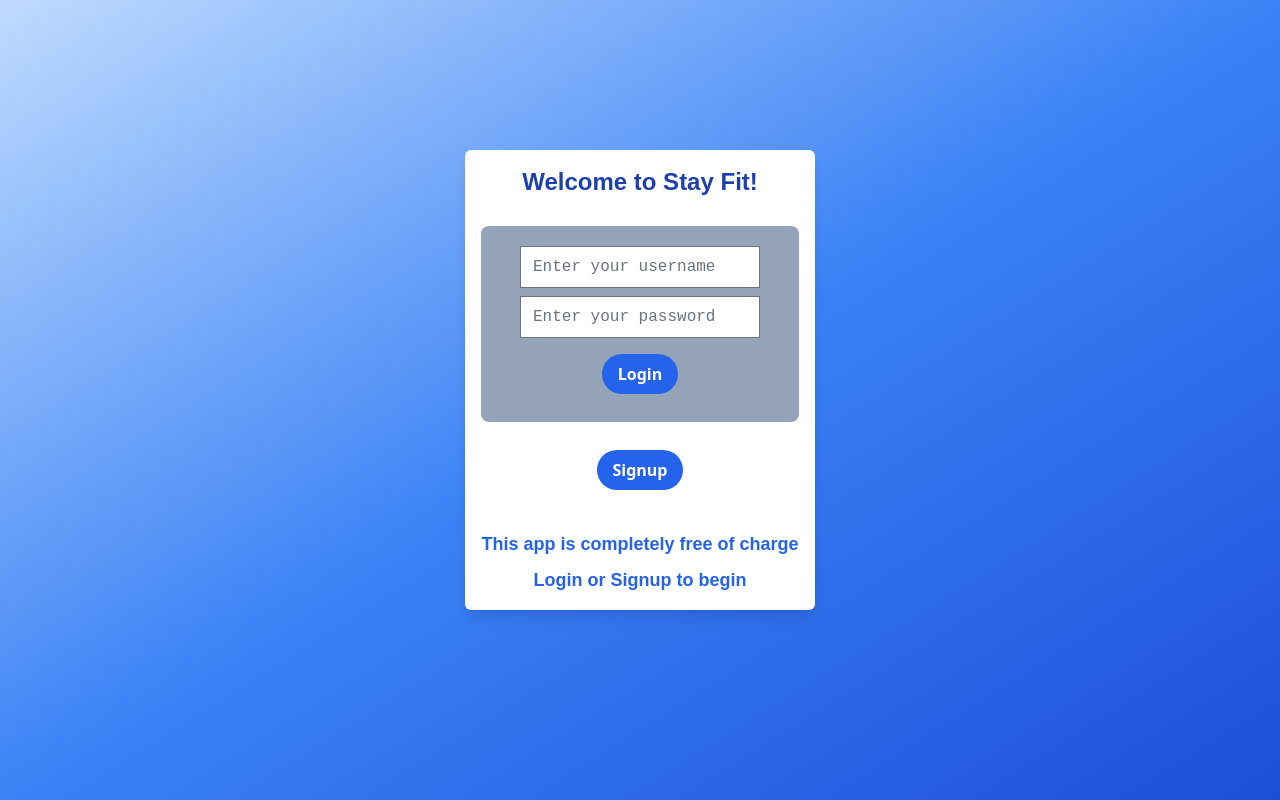
Scenario: LoginPage should show signup modal form when signup button clicked
The width and height of the screenshot is (1280, 800).
Click the button with test id "signup-button" at [640, 470], box [596,450,684,490]
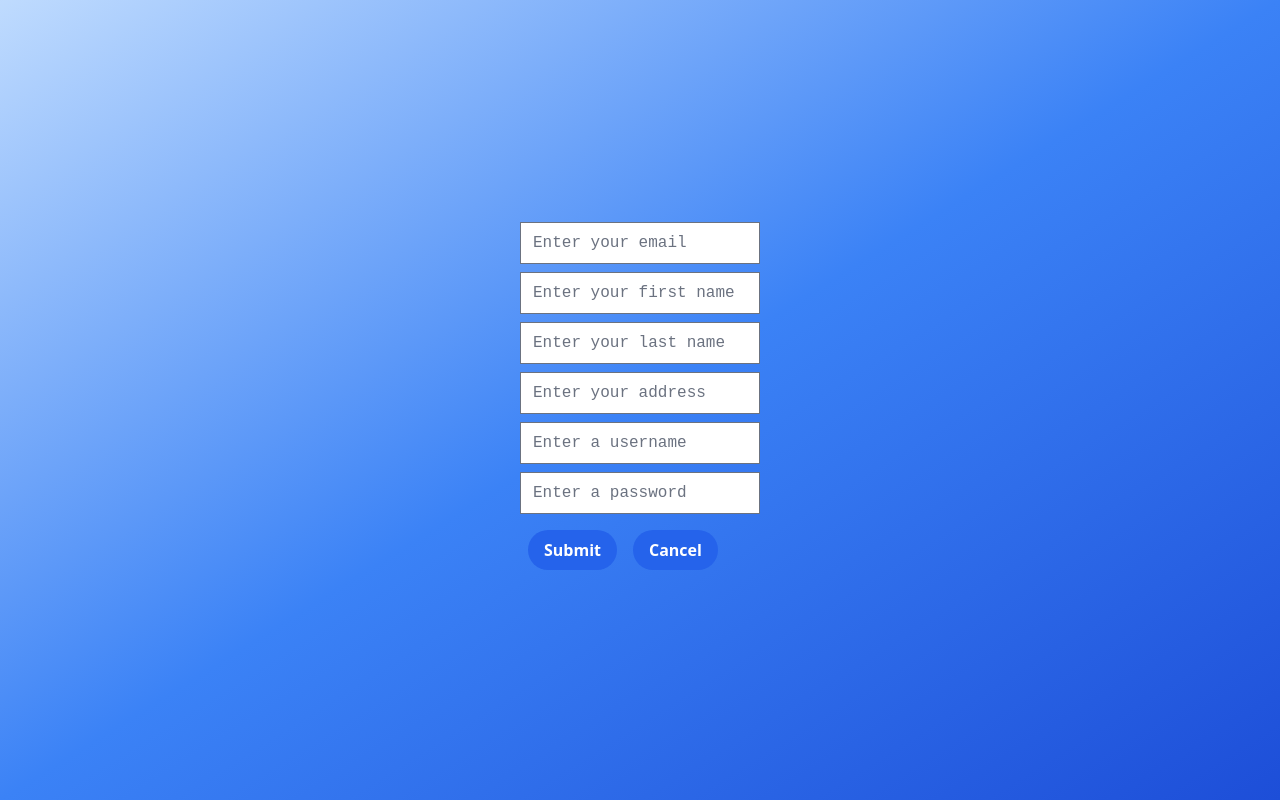
Check: the form with test id "signup-form" is shown, box [520,222,760,578]
